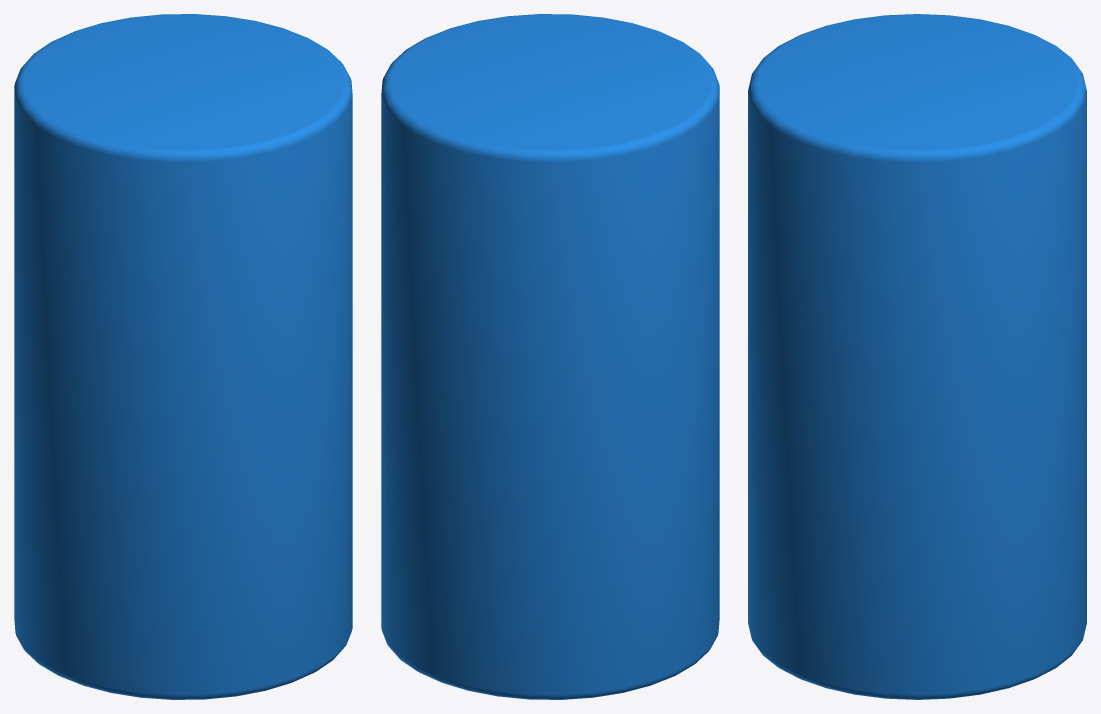
File: Building block-cylinder.fbx
3 views of the same model, side by side, from view 1: azimuth 30°, elevation 25°; view 2: azimuth 150°, elevation 25°; view 3: azimuth 270°, elevation 25° (orthographic).
Visible parts, largest first — view 1: Building block-cylinder; view 2: Building block-cylinder; view 3: Building block-cylinder.
Boxes of the visible parts, bbox=[...] form: Building block-cylinder: bbox=[14, 14, 352, 699]; Building block-cylinder: bbox=[381, 14, 719, 699]; Building block-cylinder: bbox=[748, 14, 1086, 699].
Bounding box in the file's own units: 200 × 357 × 200.
